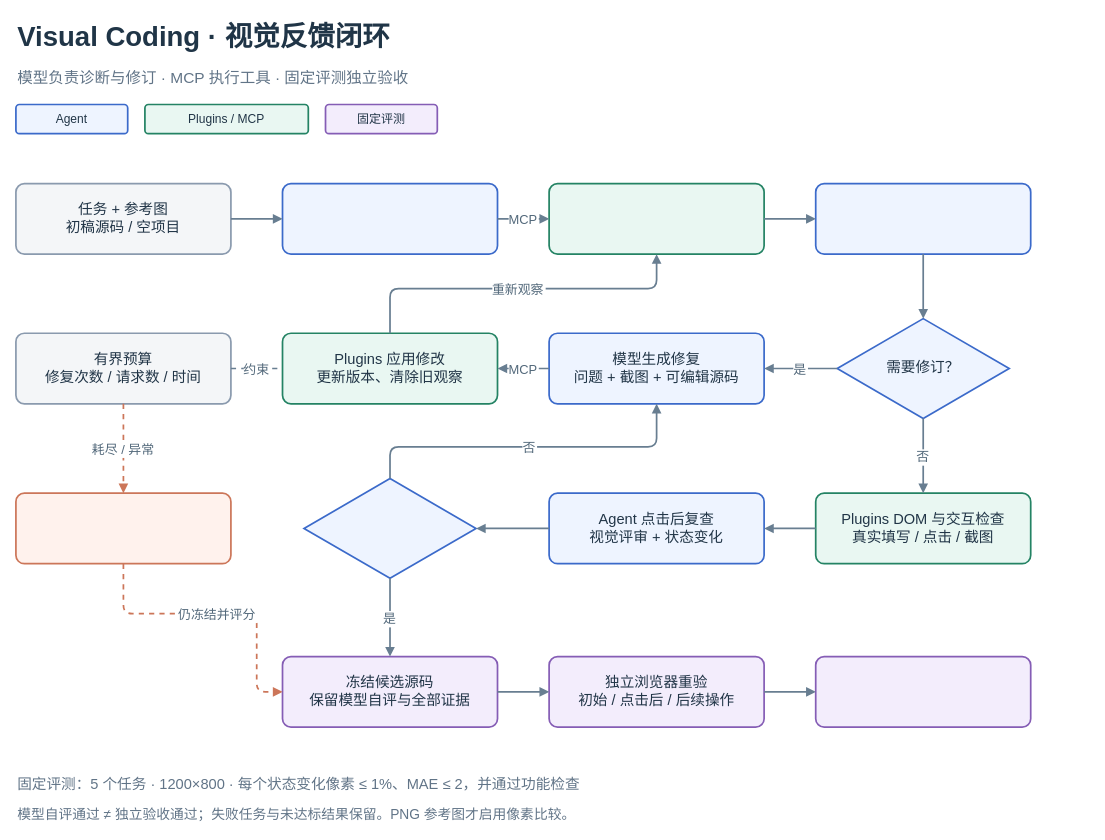
Image size: 1105x840. Some labels were removed from this diagram. The box of each missing label's shape, as (x1, y1, x2, y2) in pixels:
Agent 准备项目 读取源码 / 生成初稿: (281, 182, 498, 255)
Plugins 渲染与截图 PNG 视觉差异比较: (548, 182, 765, 255)
保留失败证据 预算耗尽 / 工具或请求异常: (15, 492, 231, 564)
检查通过？: (303, 477, 476, 579)
模型视觉评审 任务 + 图像 + 差异指标: (814, 182, 1031, 255)
输出对比报告 截图 · 差异图 · 交互 · 结论: (814, 655, 1031, 728)
